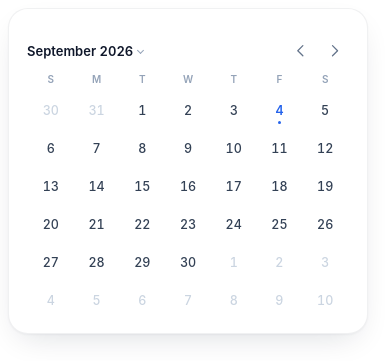
Scenario: calendar zoom: grid semantics › names every cell in full for assistive tech at every level
Click the button with aria-label "zoom out".
click(85, 51)  # box [20,39,150,63]
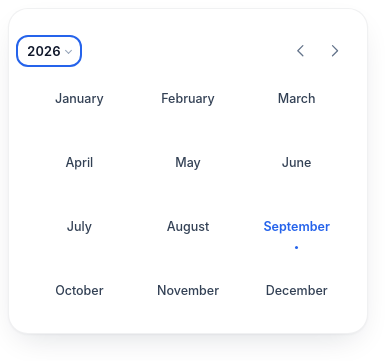
Expected: the cell named "September 2026" reads "September", [245,197,348,255]
Click the button named "zoom out".
click(49, 51)  # box [20,39,78,63]
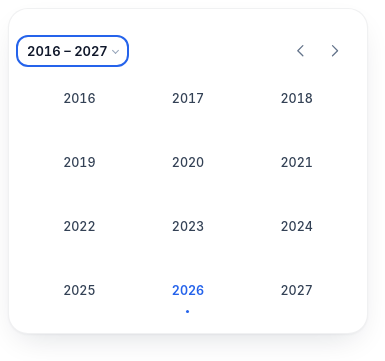
Now the cell "2026" is shown, box [137,261,239,319]
Click the button named "zoom out".
click(72, 51)  # box [20,39,125,63]
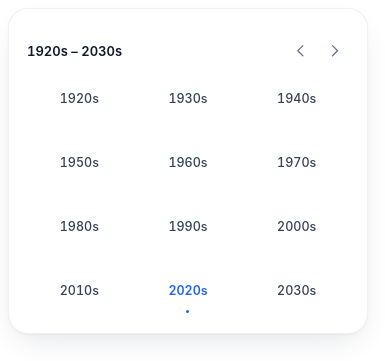
Now the cell named "2020 to 2029" reads "2020s", box [137,261,239,319]
